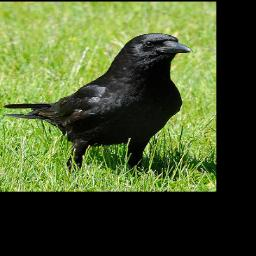Crow: (3, 32, 195, 173)
